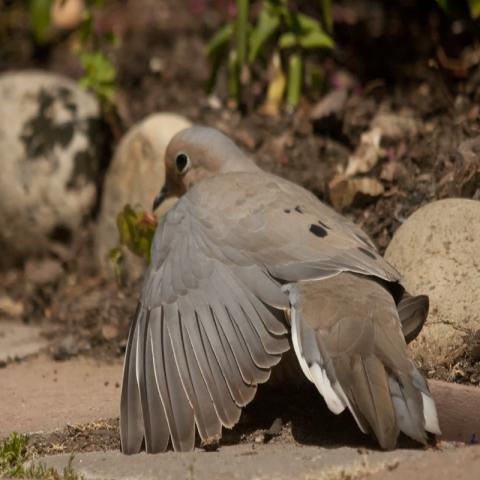bird: (117, 123, 442, 454)
